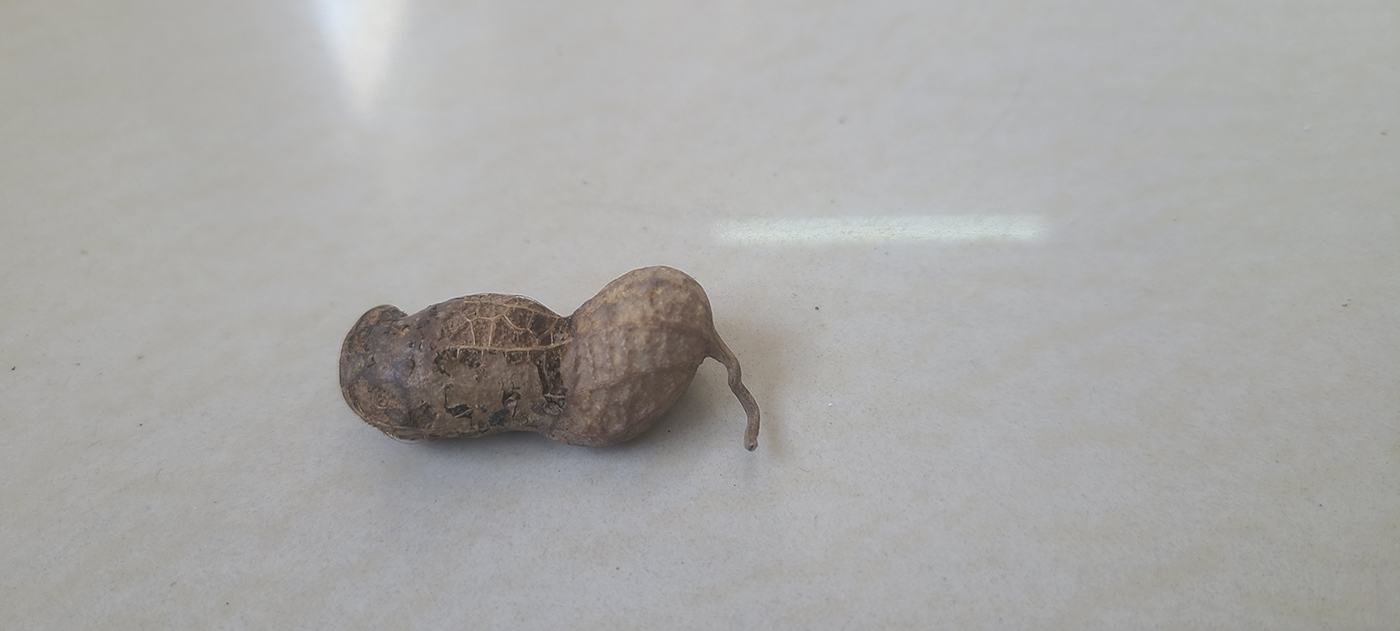l: (339, 264, 764, 455)
